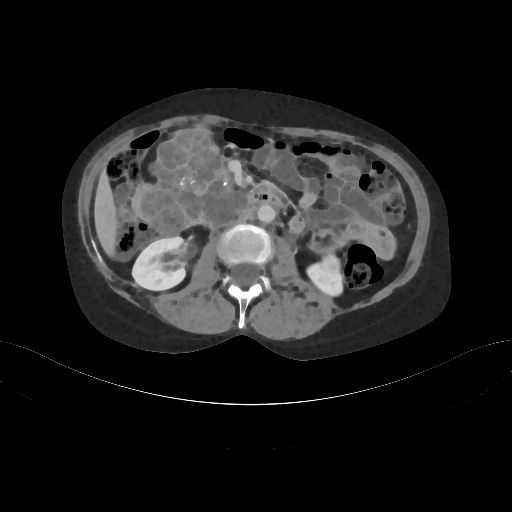Lesion: (315, 253, 343, 278)
